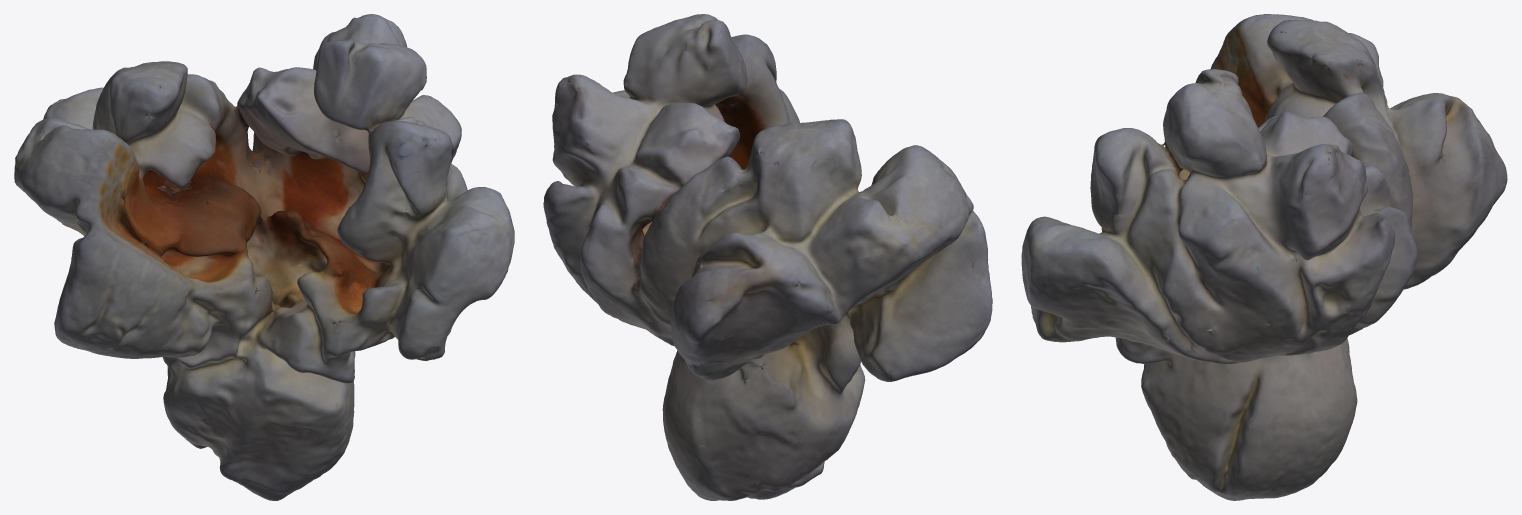
3 renders of one model, left to right at view 1: azimuth 30°, elevation 25°; view 2: azimuth 150°, elevation 25°; view 3: azimuth 270°, elevation 25°, orthographic.
Visible parts, largest first — view 1: Group_Global; view 2: Group_Global; view 3: Group_Global.
Boxes of the visible parts, x1,y1,x2,y2 form: Group_Global: [14, 14, 514, 500]; Group_Global: [543, 14, 992, 500]; Group_Global: [1021, 14, 1507, 500].
Bounding box in the file's own units: 3.85 × 4.14 × 4.03.
1 material, 1 textured.
